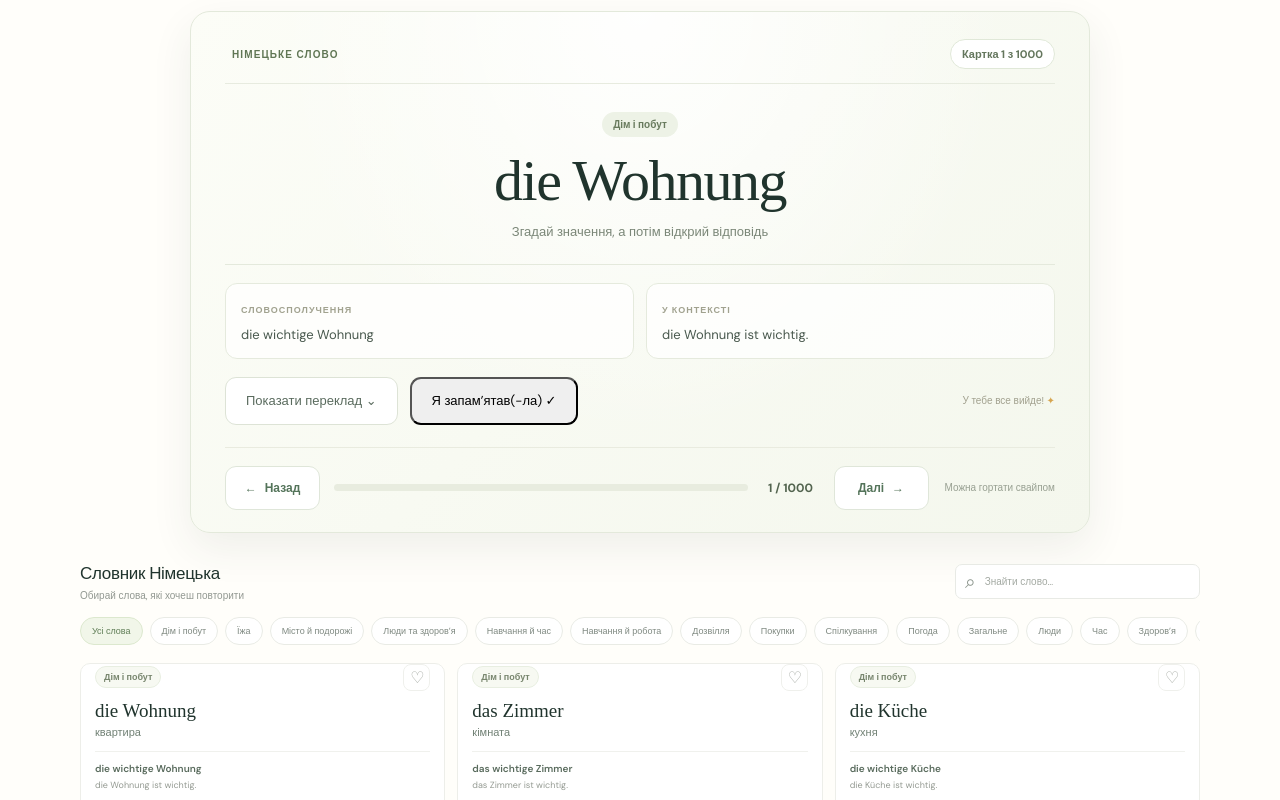
Scenario: LearningPageComponent › makes the learning card position, answer, and navigation controls explicit
The image size is (1280, 800).
(page scrolled)
Click the button with class "outline-button" at (311, 401), box [225, 377, 398, 425]
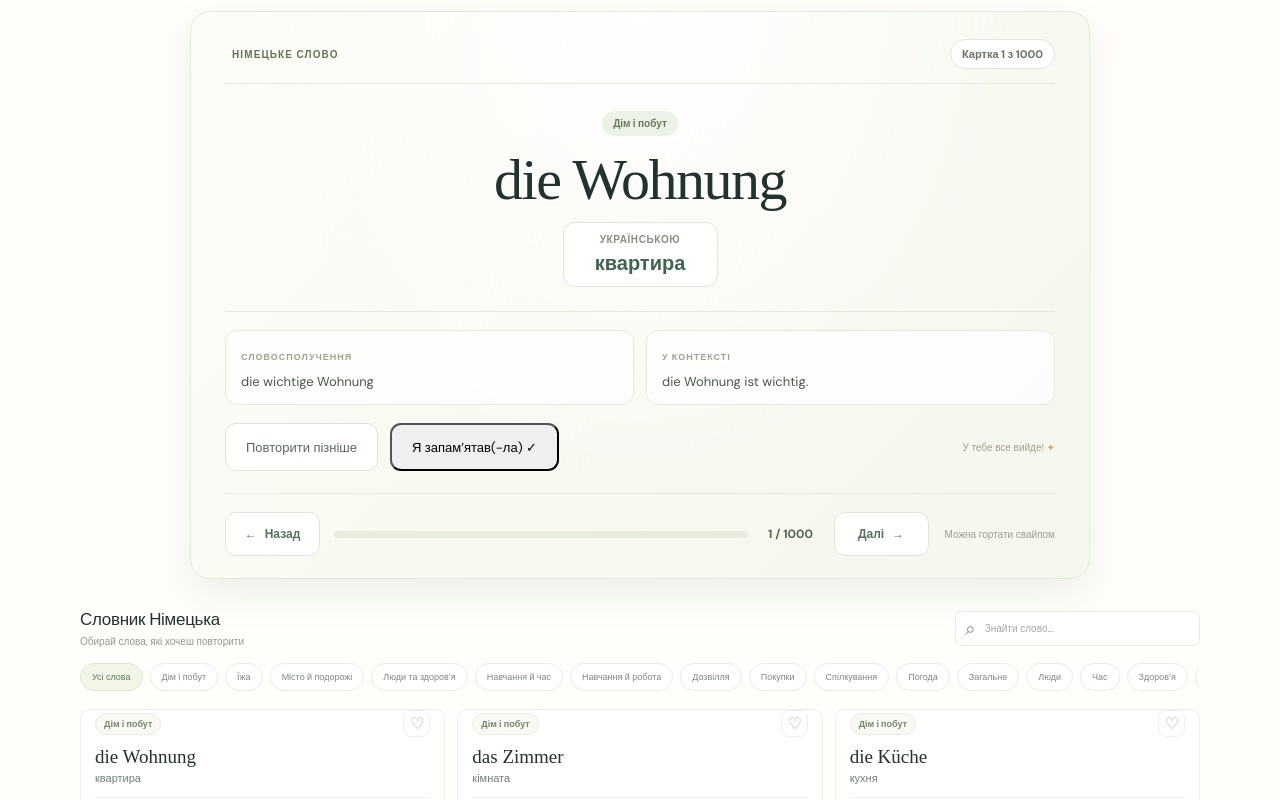
Now the text with class "translation-label" reads "Українською", box [600, 233, 680, 246]
Now the text with class "word-hint" reads "квартира", box [595, 250, 685, 276]
